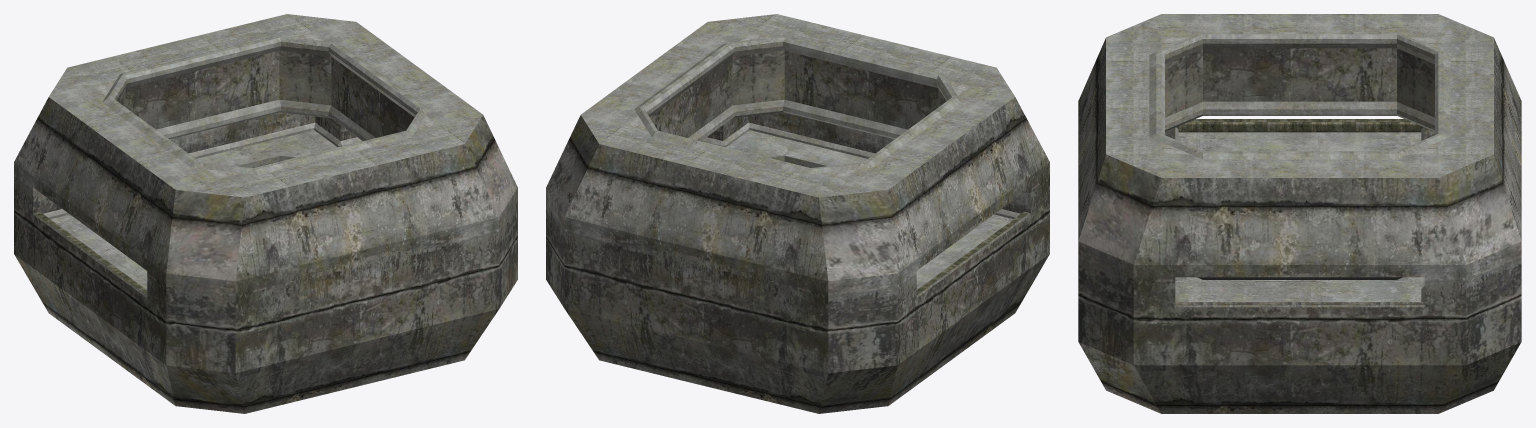
File: bunker.fbx
The picture shows the model from 3 angles, left to right: view 1: azimuth 30°, elevation 25°; view 2: azimuth 150°, elevation 25°; view 3: azimuth 270°, elevation 25°; orthographic projection. The views are drawn at different scales.
Parts seen in each view (by area): view 1: Object; view 2: Object; view 3: Object.
Part boxes in pixels (x1,y1,x2,y2): Object: (14, 14, 517, 413); Object: (546, 14, 1049, 413); Object: (1078, 14, 1521, 413).
Size of the model in its own units: 3200 by 1906 by 3200.
